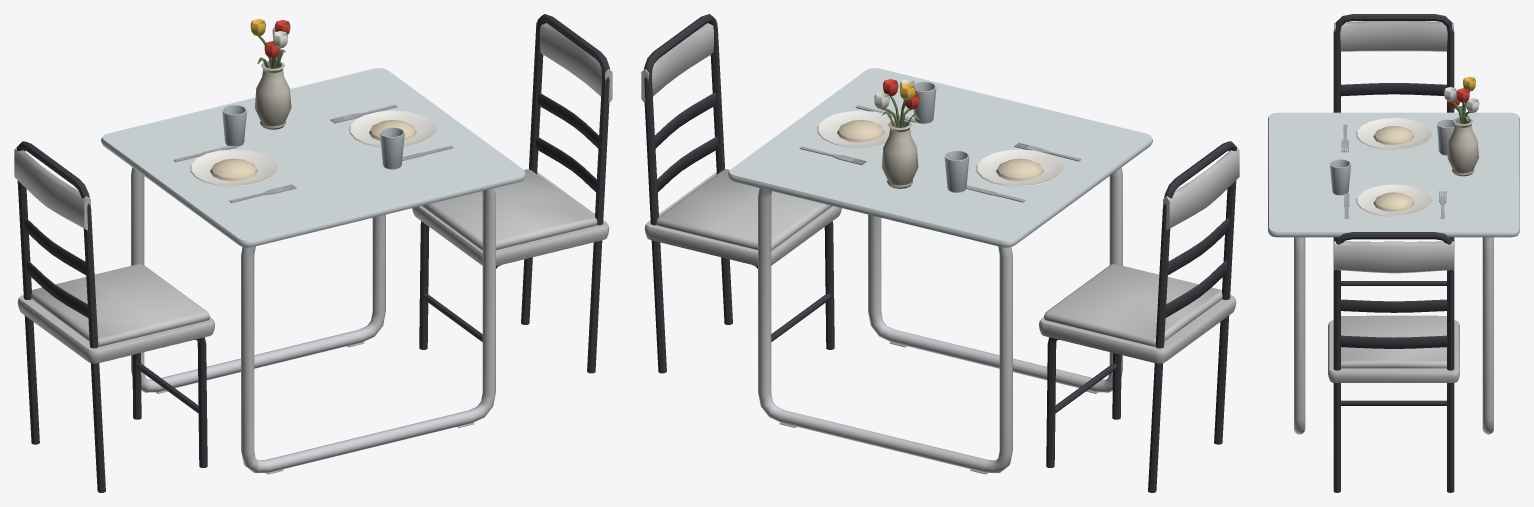
File: diningGlass.glb
3 renders of one model, left to right at view 1: azimuth 30°, elevation 25°; view 2: azimuth 150°, elevation 25°; view 3: azimuth 270°, elevation 25°, orthographic. The views are drawn at different scales.
Visible parts, largest first — view 1: diningGlass; view 2: diningGlass; view 3: diningGlass.
Part boxes in pixels (x1,y1,x2,y2): diningGlass: [14, 14, 612, 492]; diningGlass: [641, 14, 1239, 492]; diningGlass: [1268, 14, 1519, 492].
Bounding box in the file's own units: 1.69 × 1.07 × 0.8.
